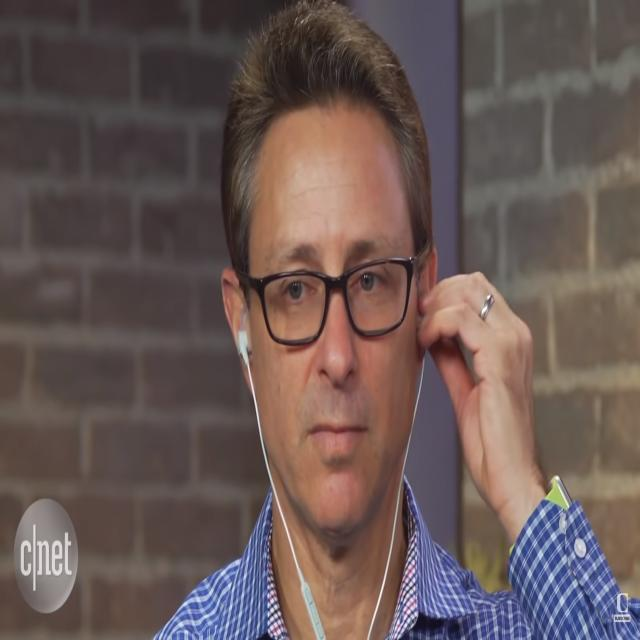Earphone: (235, 308, 423, 640)
